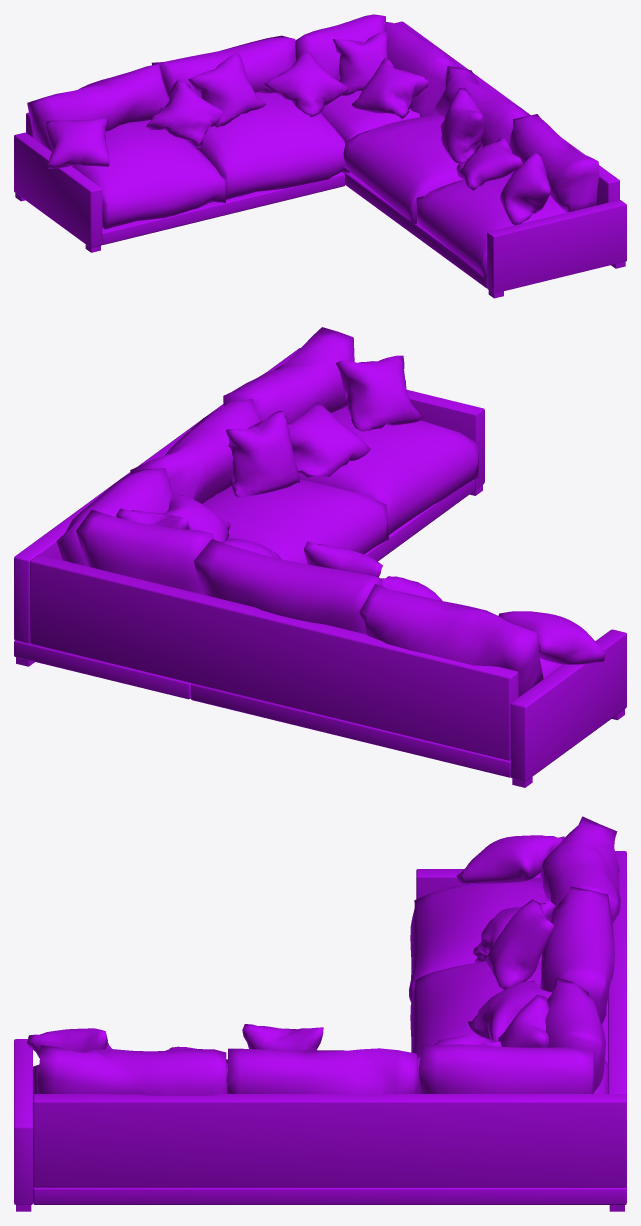
File: Sofa Asset Export.FBX
3 views of the same model, one above another, from view 1: azimuth 30°, elevation 25°; view 2: azimuth 150°, elevation 25°; view 3: azimuth 270°, elevation 25° (orthographic). The views are drawn at different scales.
Parts seen in each view (by area): view 1: SofaCushion002 (×2), SofaCushion001, SofaArm002, SofaCushion004, SofaCushion005, SofaArm001, SofaCushion006, SofaCushion010, SofaBase002, SofaCushion011, SofaCushion009, SmallCushion001 (+12 smaller); view 2: SofaBAck001, SofaCushion005, SofaCushion006, SofaCushion004, SofaArm001, SofaCushion002, SofaCushion012, SofaCushion010, SofaCushion009, SofaBase002, SofaBase001, SmallCushion007 (+10 smaller); view 3: SofaBack002, SofaCushion002 (×2), SofaBase001, SofaCushion010, SofaCushion009, SofaCushion011, SofaCushion001, SofaCushion006, SofaCushion012, SmallCushion003, SofaBAck001, SmallCushion001 (+7 smaller).
Boxes of the visible parts, bbox=[...] form: SofaCushion002 (×2): bbox=[151, 35, 349, 199]; SofaCushion001: bbox=[72, 120, 226, 229]; SofaArm002: bbox=[487, 200, 626, 293]; SofaCushion004: bbox=[343, 115, 479, 223]; SofaCushion005: bbox=[416, 166, 566, 279]; SofaArm001: bbox=[14, 132, 102, 247]; SofaCushion006: bbox=[27, 64, 169, 151]; SofaCushion010: bbox=[509, 114, 599, 212]; SofaBase002: bbox=[102, 172, 344, 244]; SofaCushion011: bbox=[385, 22, 458, 117]; SofaCushion009: bbox=[433, 66, 529, 148]; SmallCushion001: bbox=[45, 118, 109, 169]; SofaBAck001: bbox=[30, 555, 518, 760]; SofaCushion005: bbox=[298, 406, 478, 534]; SofaCushion006: bbox=[359, 584, 543, 696]; SofaCushion004: bbox=[202, 479, 388, 564]; SofaArm001: bbox=[510, 629, 626, 781]; SofaCushion002: bbox=[194, 539, 380, 634]; SofaCushion012: bbox=[76, 510, 214, 594]; SofaCushion010: bbox=[223, 327, 354, 422]; SofaCushion009: bbox=[130, 399, 259, 503]; SofaBase002: bbox=[191, 683, 510, 777]; SofaBase001: bbox=[14, 479, 475, 699]; SmallCushion007: bbox=[226, 411, 299, 497]; SofaBack002: bbox=[33, 1094, 626, 1187]; SofaCushion002 (×2): bbox=[410, 886, 614, 1057]; SofaBase001: bbox=[33, 1186, 626, 1204]; SofaCushion010: bbox=[37, 1045, 227, 1095]; SofaCushion009: bbox=[227, 1048, 421, 1094]; SofaCushion011: bbox=[418, 1044, 594, 1093]; SofaCushion001: bbox=[409, 880, 547, 1002]; SofaCushion006: bbox=[540, 816, 620, 923]; SofaCushion012: bbox=[545, 977, 605, 1091]; SmallCushion003: bbox=[485, 899, 553, 989]; SofaBAck001: bbox=[608, 851, 626, 1094]; SmallCushion001: bbox=[457, 835, 564, 884].
Size of the model in its own units: 331 by 93.38 by 320.
